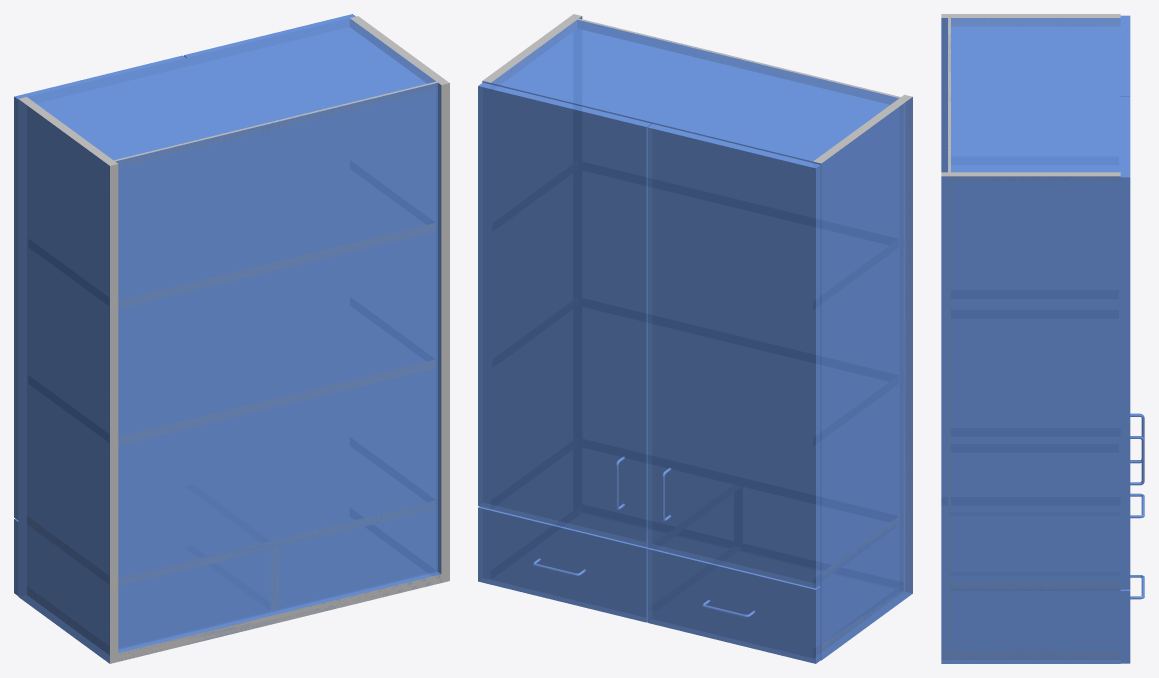
3 views of the same model, side by side, from view 1: azimuth 30°, elevation 25°; view 2: azimuth 150°, elevation 25°; view 3: azimuth 270°, elevation 25° (orthographic). The views are drawn at different scales.
Parts seen in each view (by area): view 1: mesh21_mesh21-geometry, mesh1_mesh1-geometry, mesh2_mesh2-geometry, mesh17_mesh17-geometry, mesh24_mesh24-geometry, mesh13_mesh13-geometry, mesh5_mesh5-geometry, mesh11_mesh11-geometry, mesh29_mesh29-geometry, mesh8_mesh8-geometry, mesh76_mesh76-geometry, mesh82_mesh82-geometry (+7 smaller); view 2: mesh76_mesh76-geometry, mesh63_mesh63-geometry, mesh1_mesh1-geometry, mesh2_mesh2-geometry, mesh17_mesh17-geometry, mesh105_mesh105-geometry, mesh34_mesh34-geometry, mesh91_mesh91-geometry, mesh5_mesh5-geometry, mesh9_mesh9-geometry, mesh21_mesh21-geometry, mesh3_mesh3-geometry (+16 smaller); view 3: mesh7_mesh7-geometry, mesh8_mesh8-geometry, mesh17_mesh17-geometry, mesh61_mesh61-geometry, mesh63_mesh63-geometry, mesh21_mesh21-geometry, mesh13_mesh13-geometry, mesh29_mesh29-geometry, mesh2_mesh2-geometry, mesh1_mesh1-geometry, mesh10_mesh10-geometry, mesh67_mesh67-geometry (+6 smaller).
Boxes of the visible parts, <box> form: mesh21_mesh21-geometry: <box>109,81,440,654</box>; mesh1_mesh1-geometry: <box>18,99,109,663</box>; mesh2_mesh2-geometry: <box>27,106,108,652</box>; mesh17_mesh17-geometry: <box>27,18,435,167</box>; mesh24_mesh24-geometry: <box>118,223,435,444</box>; mesh13_mesh13-geometry: <box>27,571,441,661</box>; mesh5_mesh5-geometry: <box>110,164,118,663</box>; mesh11_mesh11-geometry: <box>441,83,449,582</box>; mesh29_mesh29-geometry: <box>27,500,435,585</box>; mesh8_mesh8-geometry: <box>437,83,441,573</box>; mesh76_mesh76-geometry: <box>15,56,183,520</box>; mesh82_mesh82-geometry: <box>14,97,18,520</box>; mesh76_mesh76-geometry: <box>647,124,819,588</box>; mesh63_mesh63-geometry: <box>478,83,650,546</box>; mesh1_mesh1-geometry: <box>821,97,912,660</box>; mesh2_mesh2-geometry: <box>821,108,900,642</box>; mesh17_mesh17-geometry: <box>491,19,898,162</box>; mesh105_mesh105-geometry: <box>647,548,819,663</box>; mesh34_mesh34-geometry: <box>478,507,647,622</box>; mesh91_mesh91-geometry: <box>668,564,800,635</box>; mesh5_mesh5-geometry: <box>905,97,912,593</box>; mesh9_mesh9-geometry: <box>482,81,490,578</box>; mesh21_mesh21-geometry: <box>573,17,904,591</box>; mesh3_mesh3-geometry: <box>813,161,821,660</box>; mesh7_mesh7-geometry: <box>941,176,1120,663</box>; mesh8_mesh8-geometry: <box>942,177,1119,650</box>; mesh17_mesh17-geometry: <box>951,18,1120,180</box>; mesh61_mesh61-geometry: <box>1120,177,1130,589</box>; mesh63_mesh63-geometry: <box>1121,97,1129,589</box>; mesh21_mesh21-geometry: <box>948,16,950,657</box>; mesh13_mesh13-geometry: <box>941,651,1120,659</box>; mesh29_mesh29-geometry: <box>951,582,1120,590</box>; mesh2_mesh2-geometry: <box>941,18,947,172</box>; mesh1_mesh1-geometry: <box>942,18,947,171</box>; mesh10_mesh10-geometry: <box>941,172,1120,176</box>; mesh67_mesh67-geometry: <box>1120,96,1130,177</box>.
Size of the model in its own units: 0.5556 by 0.7778 by 0.2937.
